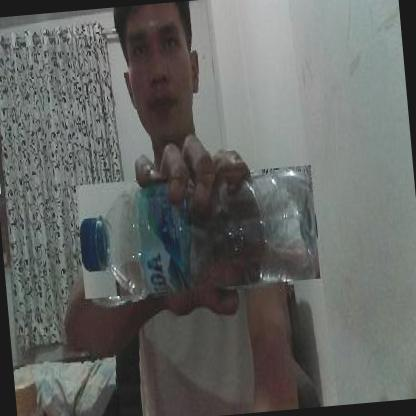plastic_bottles: (75, 165, 320, 301)
